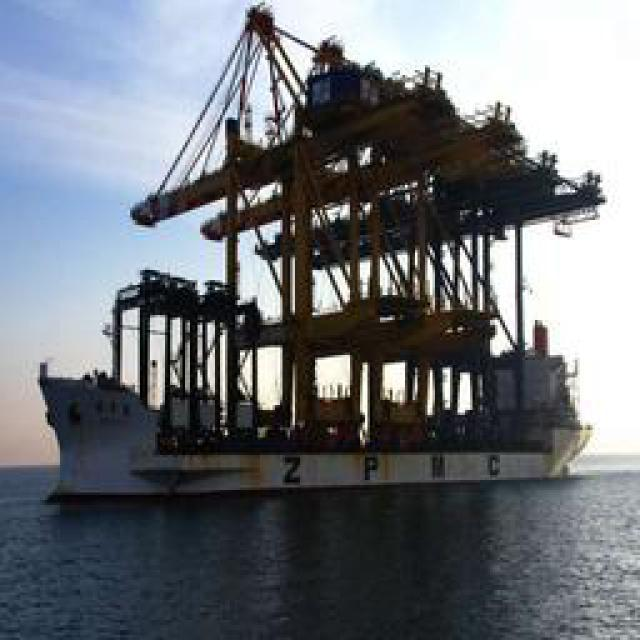Ship: (41, 61, 596, 499)
